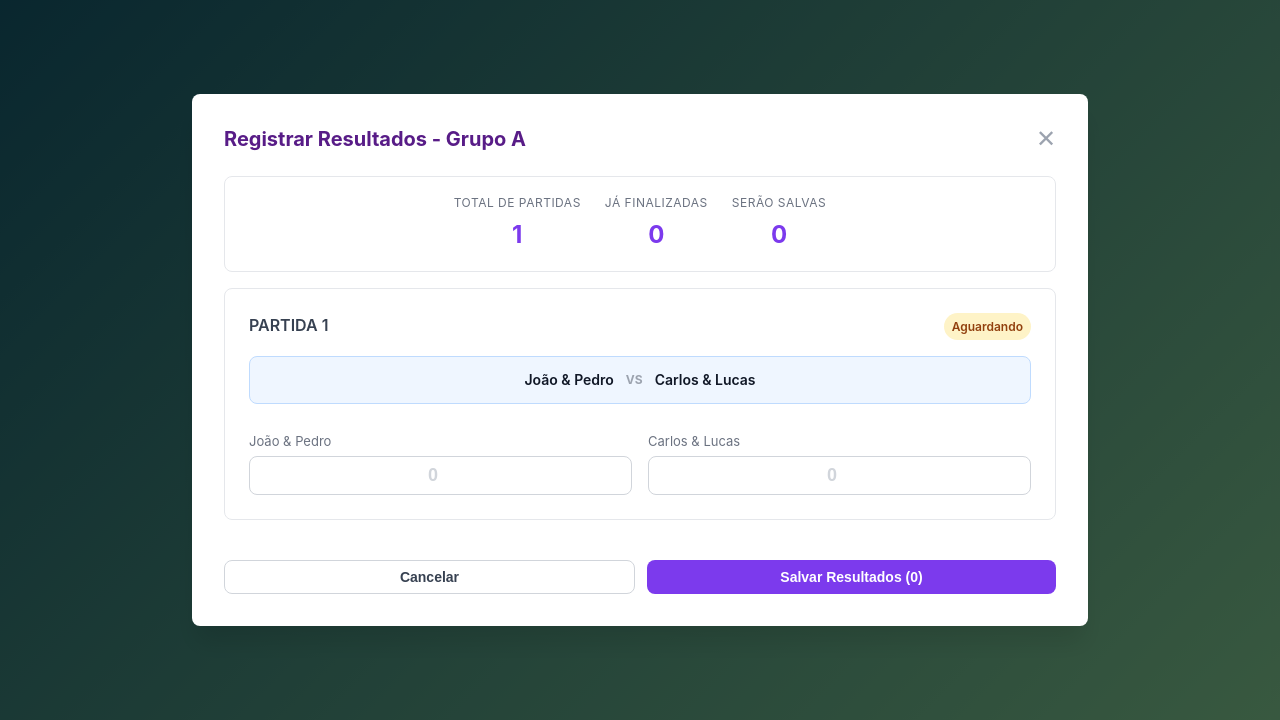
Test case: ModalLancamentoResultadosLoteReiDaPraia › submissão › deve mostrar erro quando etapa não encontrada
Type "6" into the 1st number field with placeholder "0" at (440, 476), box [249,456,632,495]
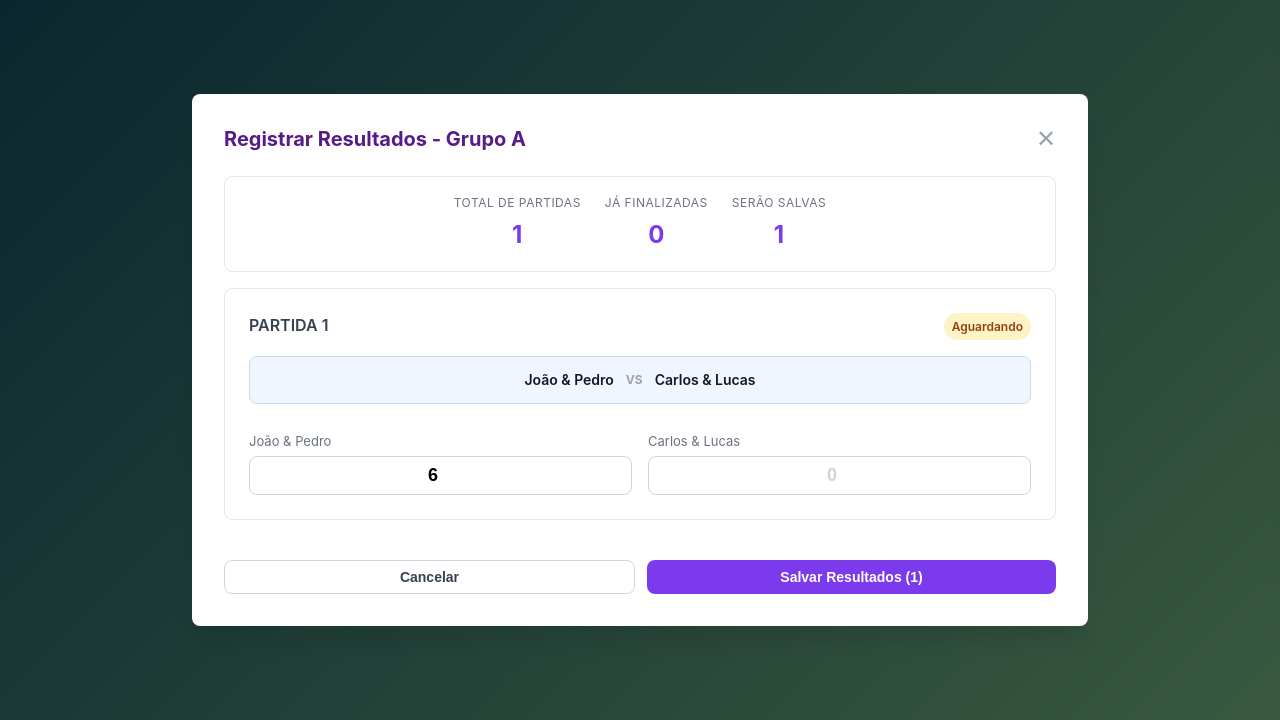
Type "4" into the number field with placeholder "0" at (840, 476), box [648,456,1031,495]
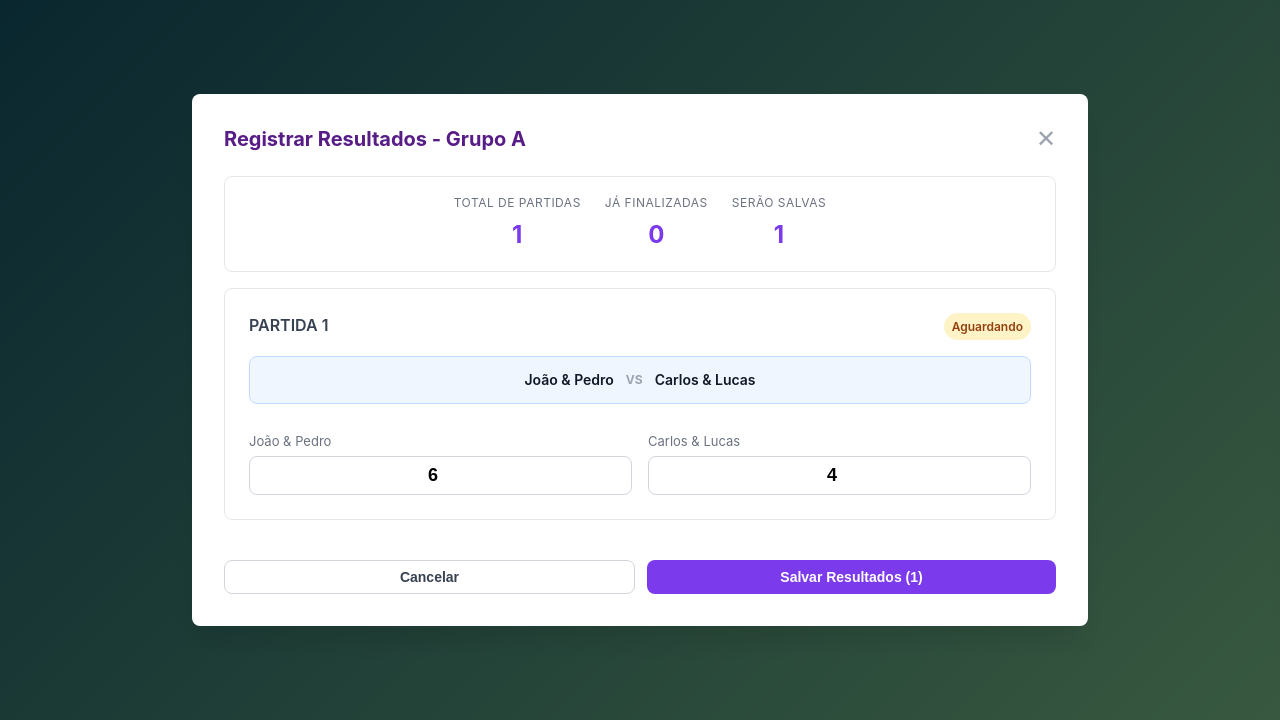
Click the button "Salvar Resultados (1)" at (852, 577), box [647,560,1056,594]
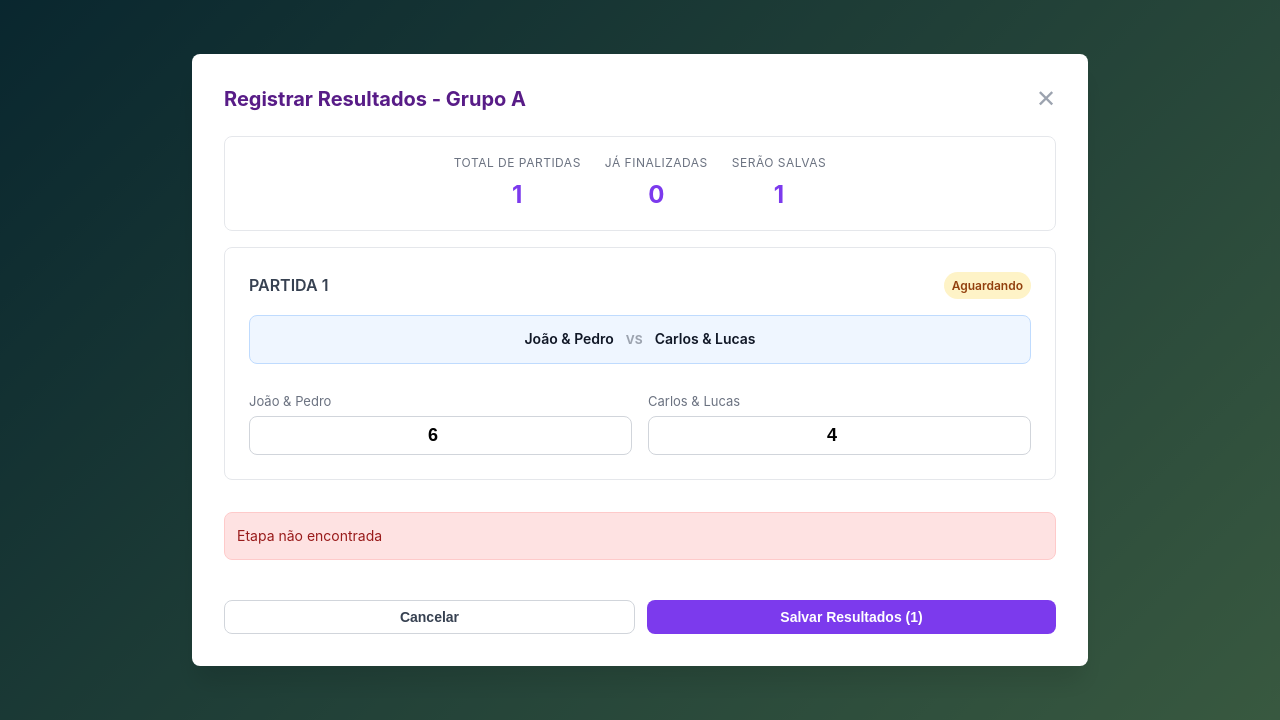
Now the text "Etapa não encontrada" is shown, box [237,527,382,544]
